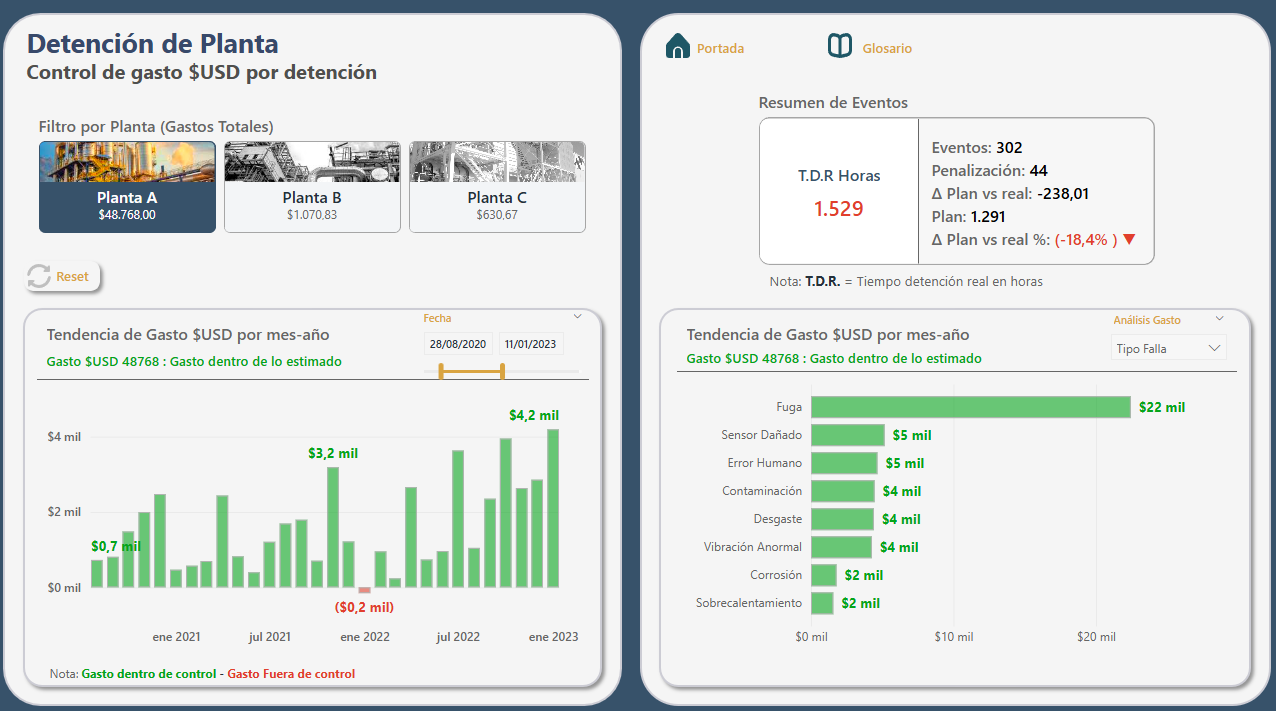

This screenshot's page, from the dashboard's own definition file:
{"tool":"powerbi","page":{"name":"Gasto","canvas":[1280,720],"ordinal":2},"visuals":[{"type":"clusteredColumnChart","title":"Tendencia de Gasto $USD por mes-año","fields":{"Category":["dim_calendario.CC_Year_Month_Start_Date.Variación.Jerarquía de fechas.Año"],"Y":["Medidas.Gasto"]},"box":[40,320,552,344],"z":0},{"type":"clusteredBarChart","title":"Tendencia de Gasto $USD por mes-año","fields":{"Category":["dim_tipo_falla.Tipo_Falla"],"Y":["Medidas.Gasto"]},"box":[680,320,560,344],"z":1000},{"type":"slicer","fields":{"Values":["Análisis Gasto.Análisis Gasto"]},"box":[1104,312,136,64],"z":2000},{"type":"advancedSlicerVisual","title":"Filtro por Planta (Gastos Totales)","fields":{"Values":["dim_area.Área"]},"box":[32,112,568,136],"z":3000},{"type":"cardVisual","title":"Resumen de Eventos","fields":{"Data":["Medidas.Tiempo_real"]},"box":[752,88,416,192],"z":4000},{"type":"textbox","box":[48,664,336,32],"z":5000},{"type":"slicer","fields":{"Values":["dim_calendario.Date"]},"box":[414,310,184,82],"z":6000},{"type":"textbox","box":[768,272,296,32],"z":7000},{"type":"actionButton","box":[48,264,56,32],"z":8000},{"type":"actionButton","box":[664,32,88,40],"z":9000},{"type":"actionButton","box":[824,32,96,40],"z":10000}]}

Visuals, with their boxes in screenshot pixels (x1, y1, x2, y2), scaled from the page's 1280x720 canvas onto the 1276x711 screenshot:
"Tendencia de Gasto $USD por mes-año" clusteredColumnChart: box=[40, 316, 590, 656]
"Tendencia de Gasto $USD por mes-año" clusteredBarChart: box=[678, 316, 1236, 656]
slicer - Análisis Gasto.Análisis Gasto: box=[1101, 308, 1236, 371]
"Filtro por Planta (Gastos Totales)" advancedSlicerVisual: box=[32, 111, 598, 245]
"Resumen de Eventos" cardVisual: box=[750, 87, 1164, 276]
textbox: box=[48, 656, 383, 687]
slicer - dim_calendario.Date: box=[413, 306, 596, 387]
textbox: box=[766, 269, 1061, 300]
actionButton: box=[48, 261, 104, 292]
actionButton: box=[662, 32, 750, 71]
actionButton: box=[821, 32, 917, 71]
